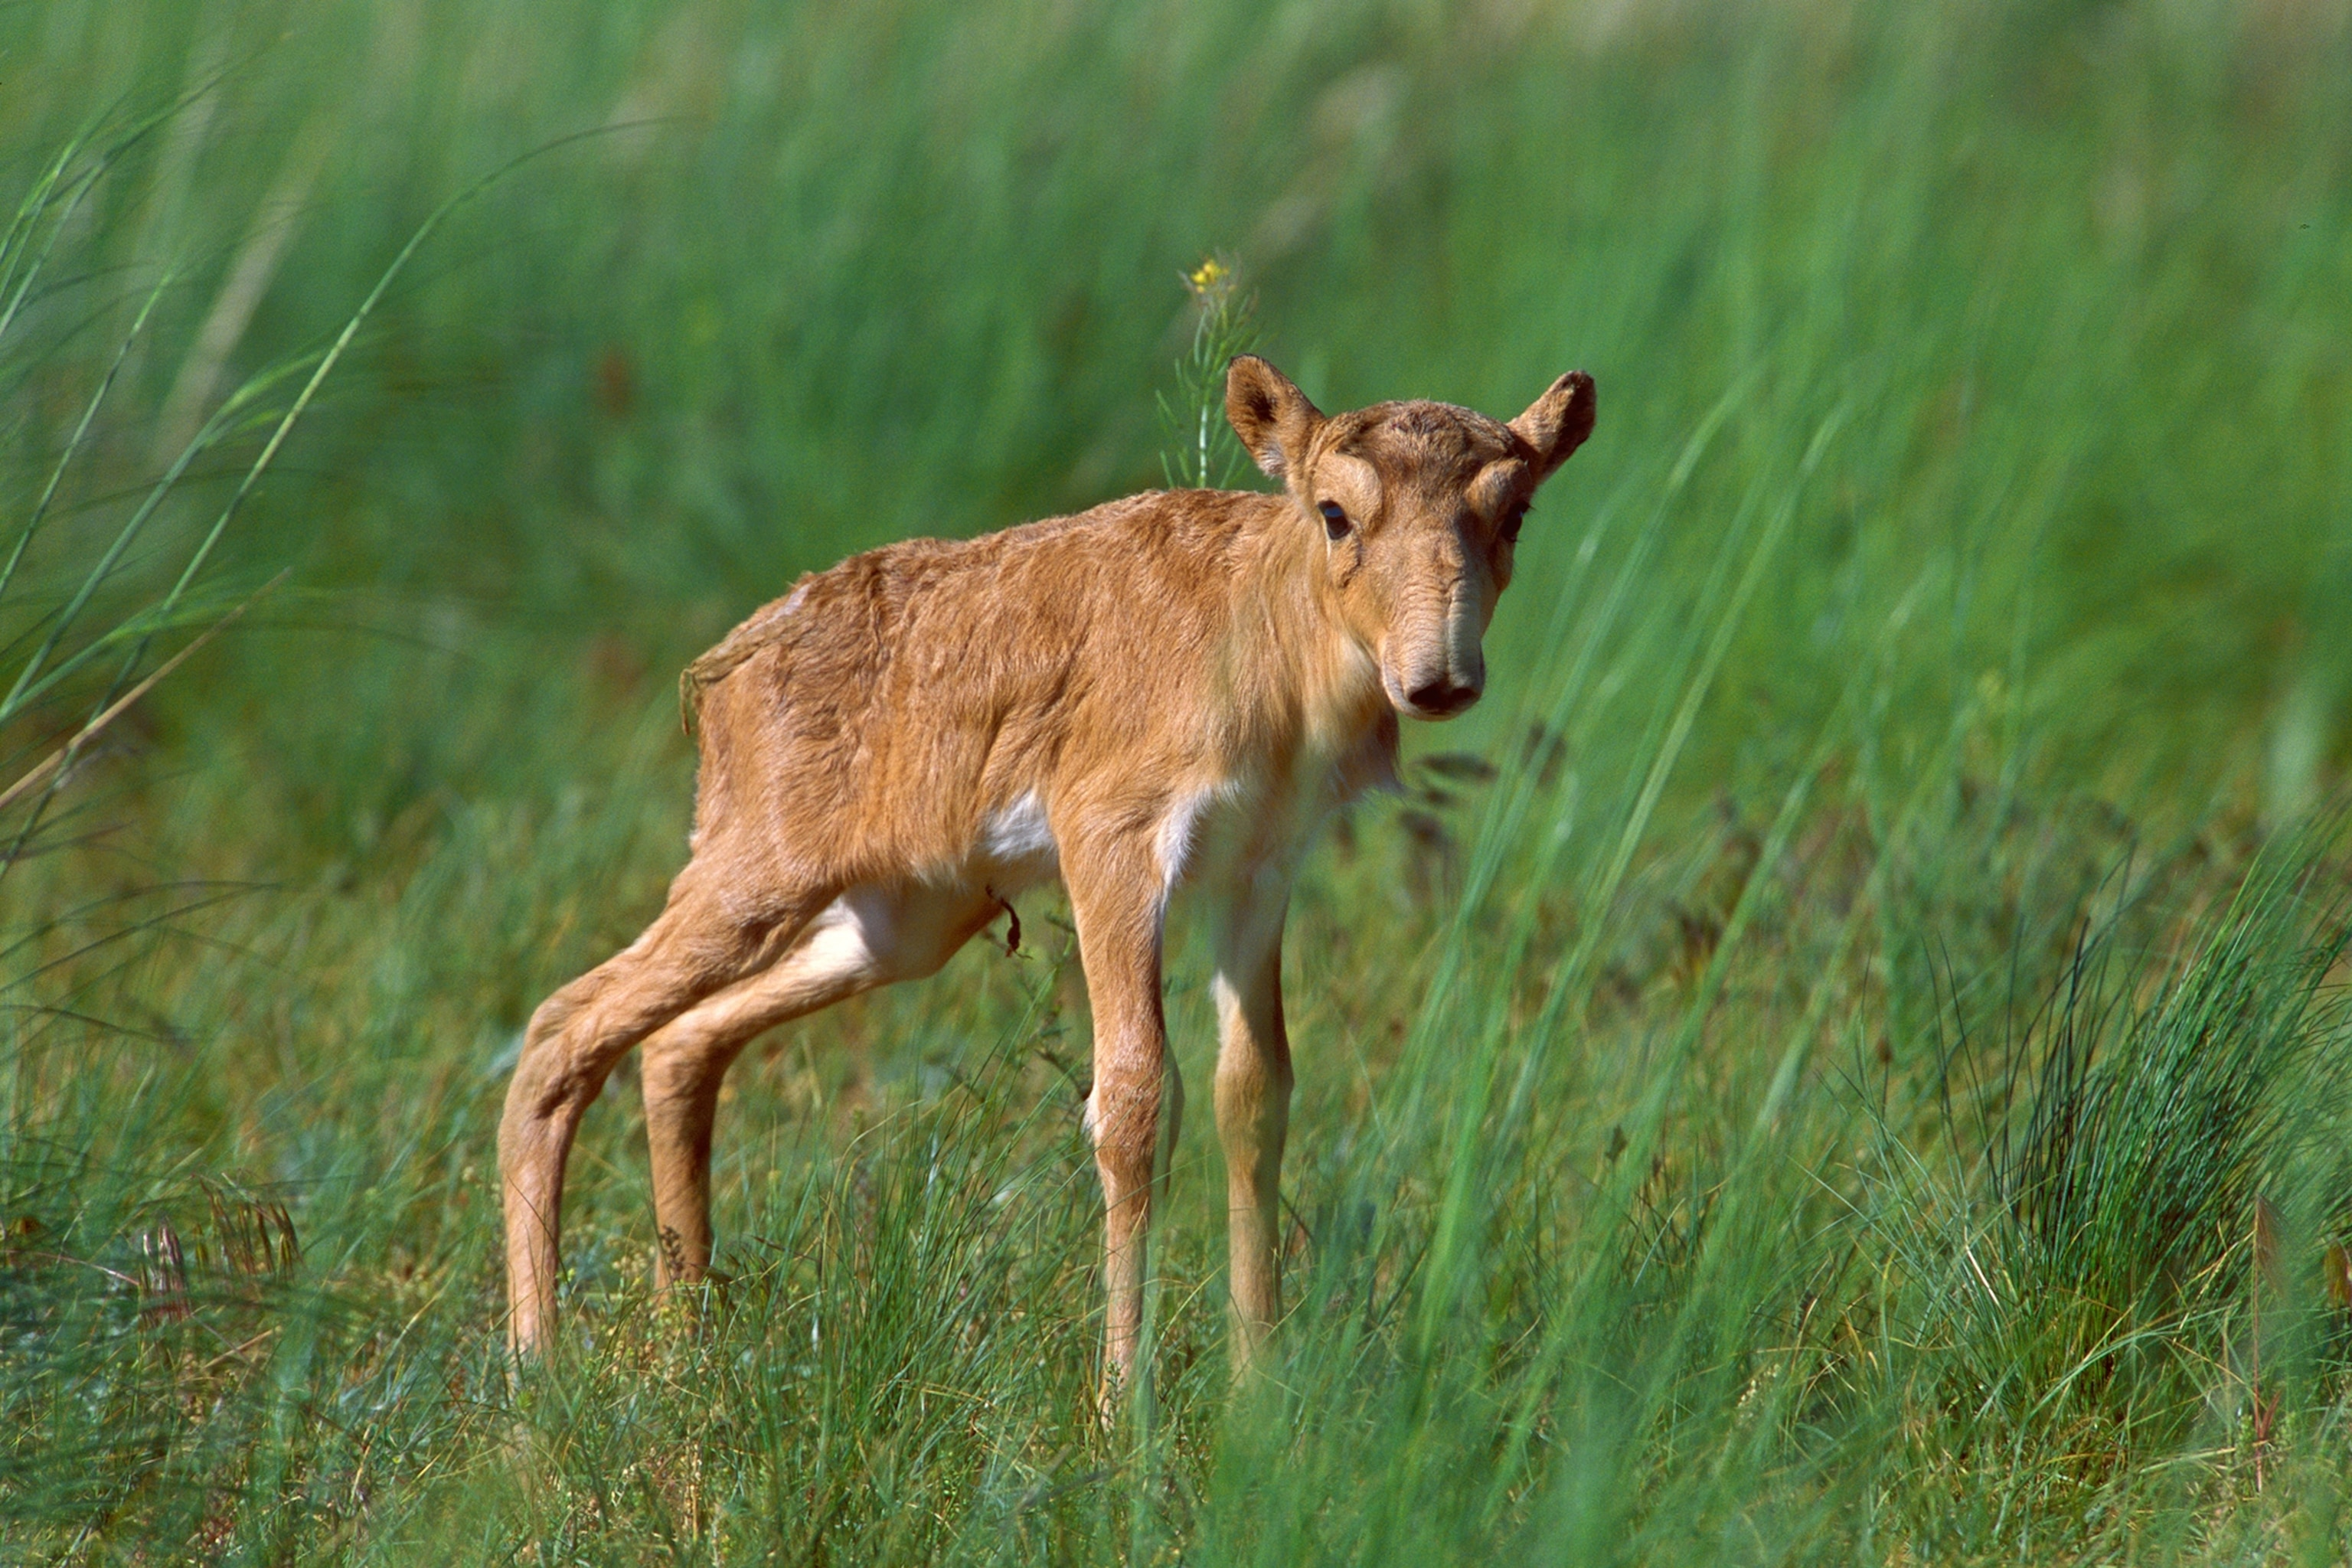saiga: (490, 353, 1598, 1423)
